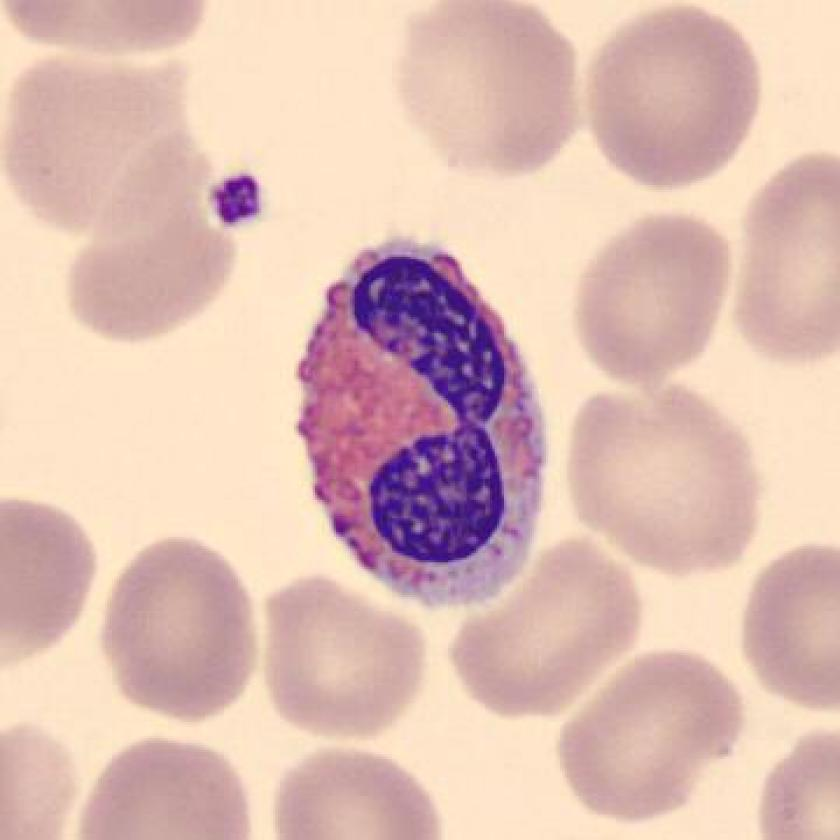eosinophil: (286, 219, 561, 621)
